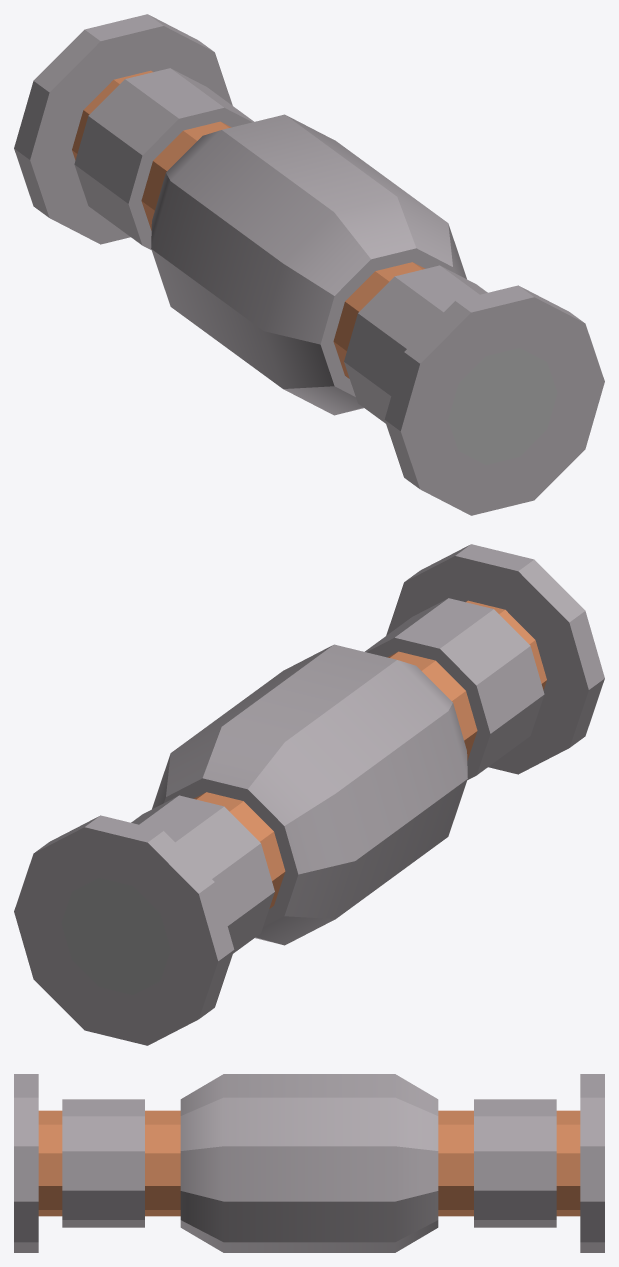
The model's file is PowerGenerator.fbx.
3 renders of one model, top to bottom at view 1: azimuth 30°, elevation 25°; view 2: azimuth 150°, elevation 25°; view 3: azimuth 270°, elevation 25°, orthographic. The views are drawn at different scales.
Visible parts, largest first — view 1: PowerGen; view 2: PowerGen; view 3: PowerGen.
Part boxes in pixels (x1,y1,x2,y2): PowerGen: (14, 14, 604, 515); PowerGen: (14, 544, 604, 1045); PowerGen: (14, 1074, 604, 1252).
Bounding box in the file's own units: 278 × 264 × 911.
Materials: 1 (1 with a texture image).
